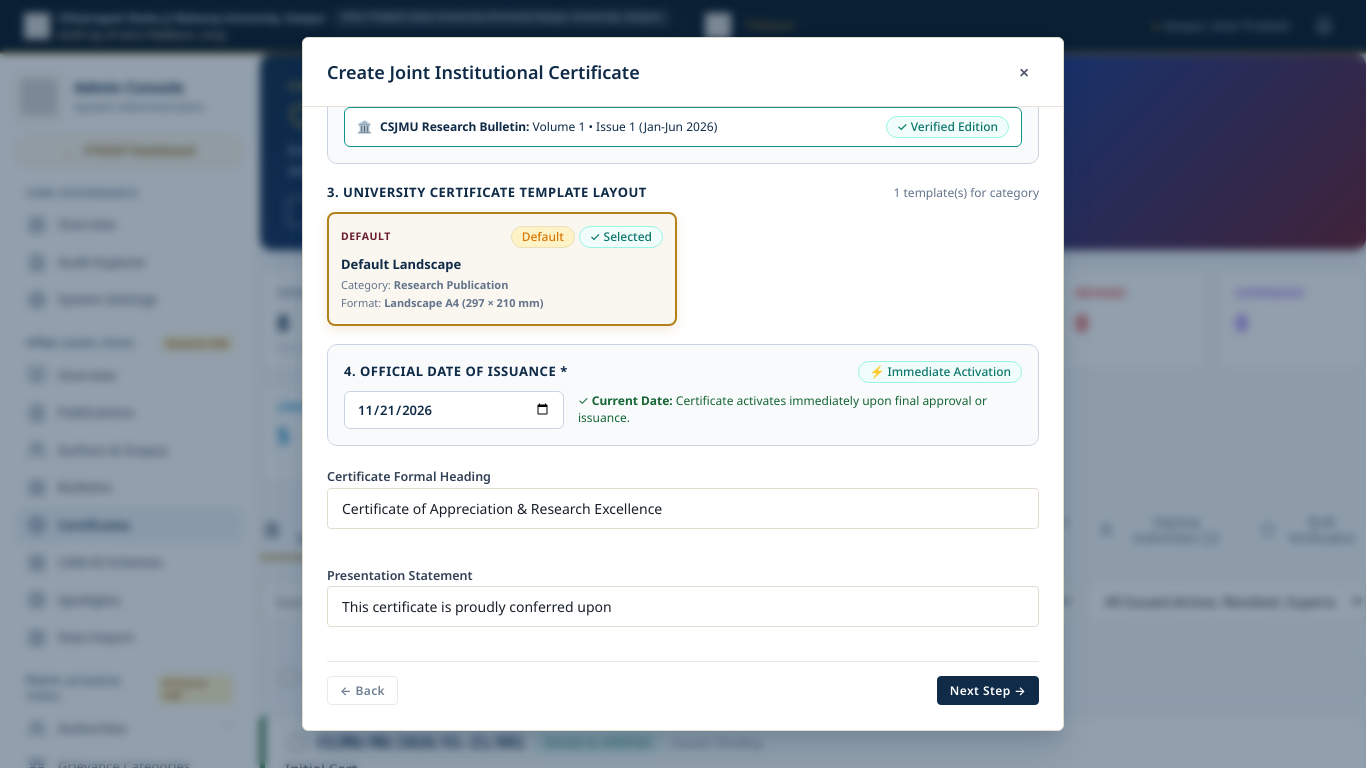
Test: CertificatesPage - Manual Certificate Number & Verification Identifier Overrides › renders optional manual override fields and live verification preview in Step 4
The width and height of the screenshot is (1366, 768).
Earlier steps of the test are not shown.
(page scrolled)
Click the button "Next Step →": [988, 691] box [937,676,1039,705]
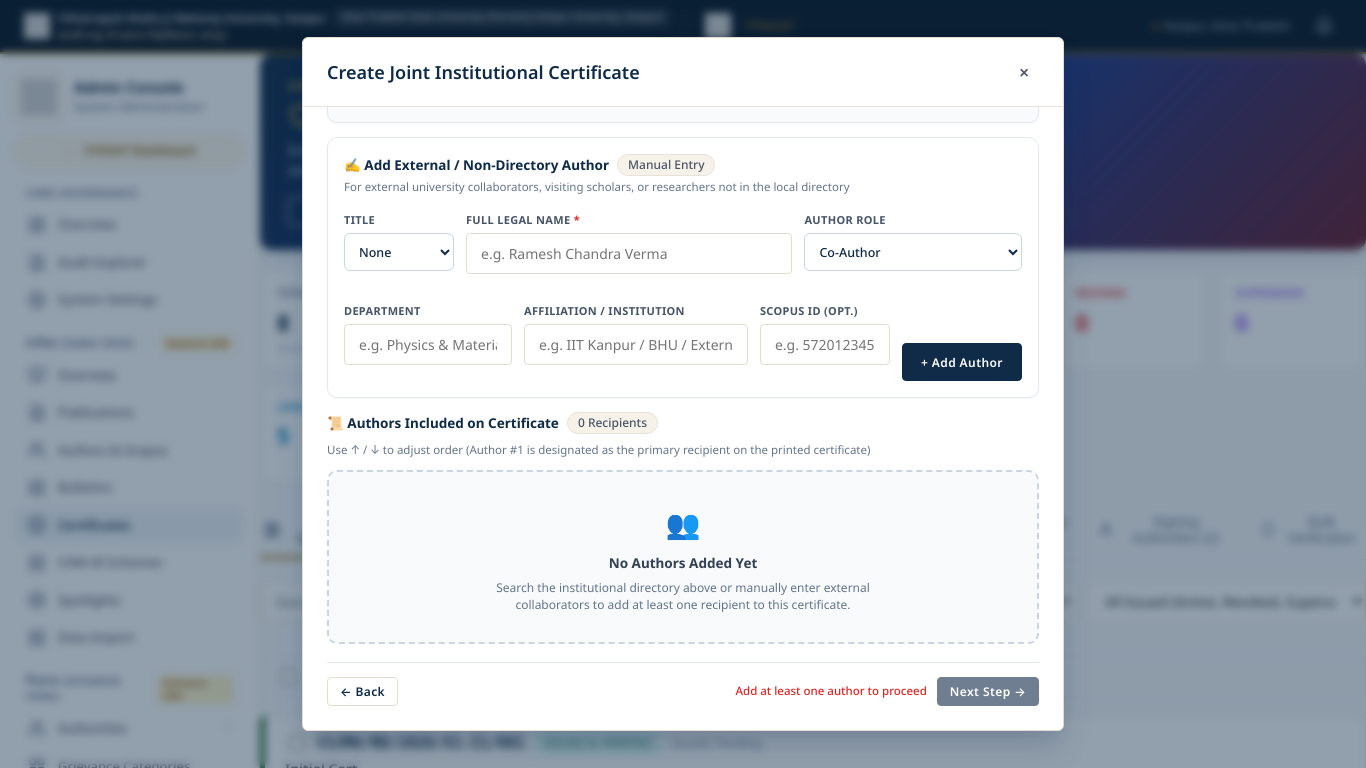
In the field with placeholder "e.g. Ramesh Chandra Verma": [629, 254] box [466,233,792,274], type "Dr. Test Author"
Click the button "+ Add Author": [962, 362] box [902,343,1022,381]
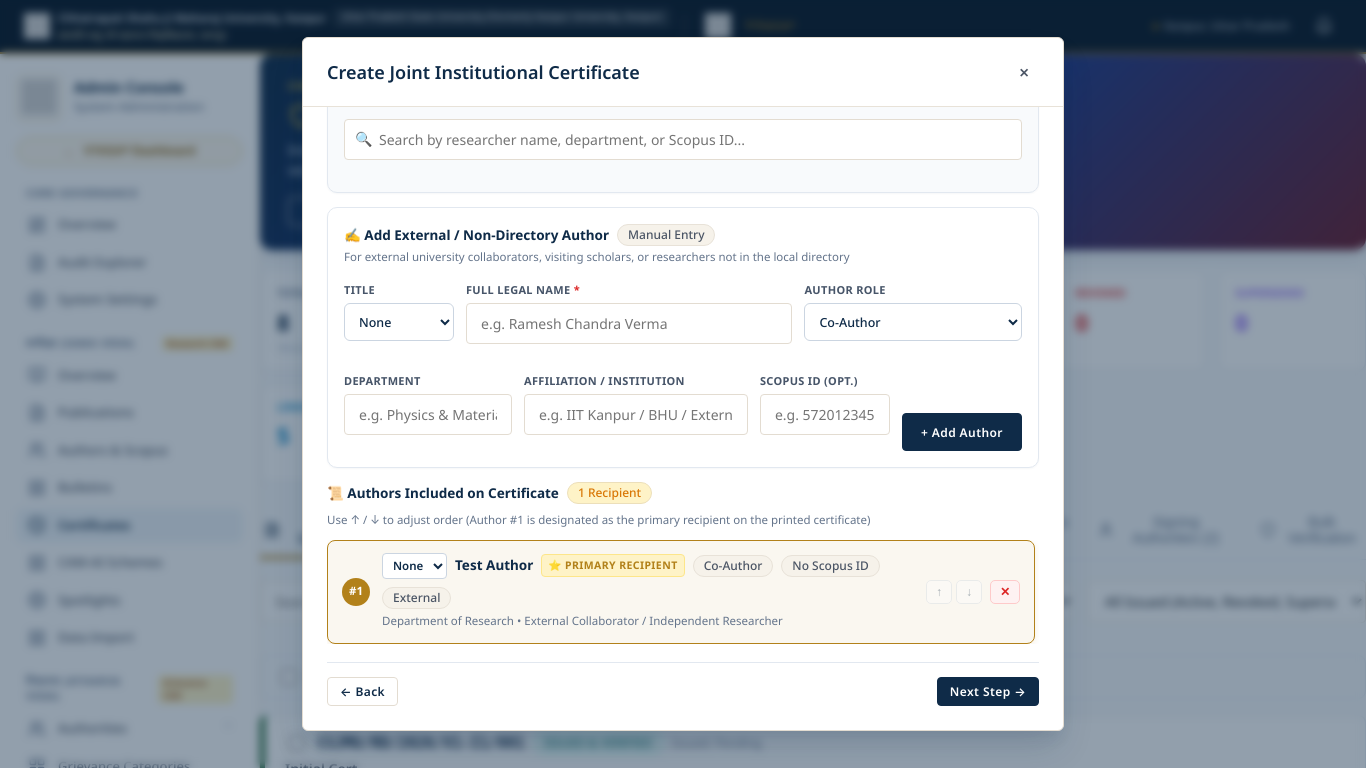
Click the button "Next Step →": [988, 691] box [937,676,1039,706]
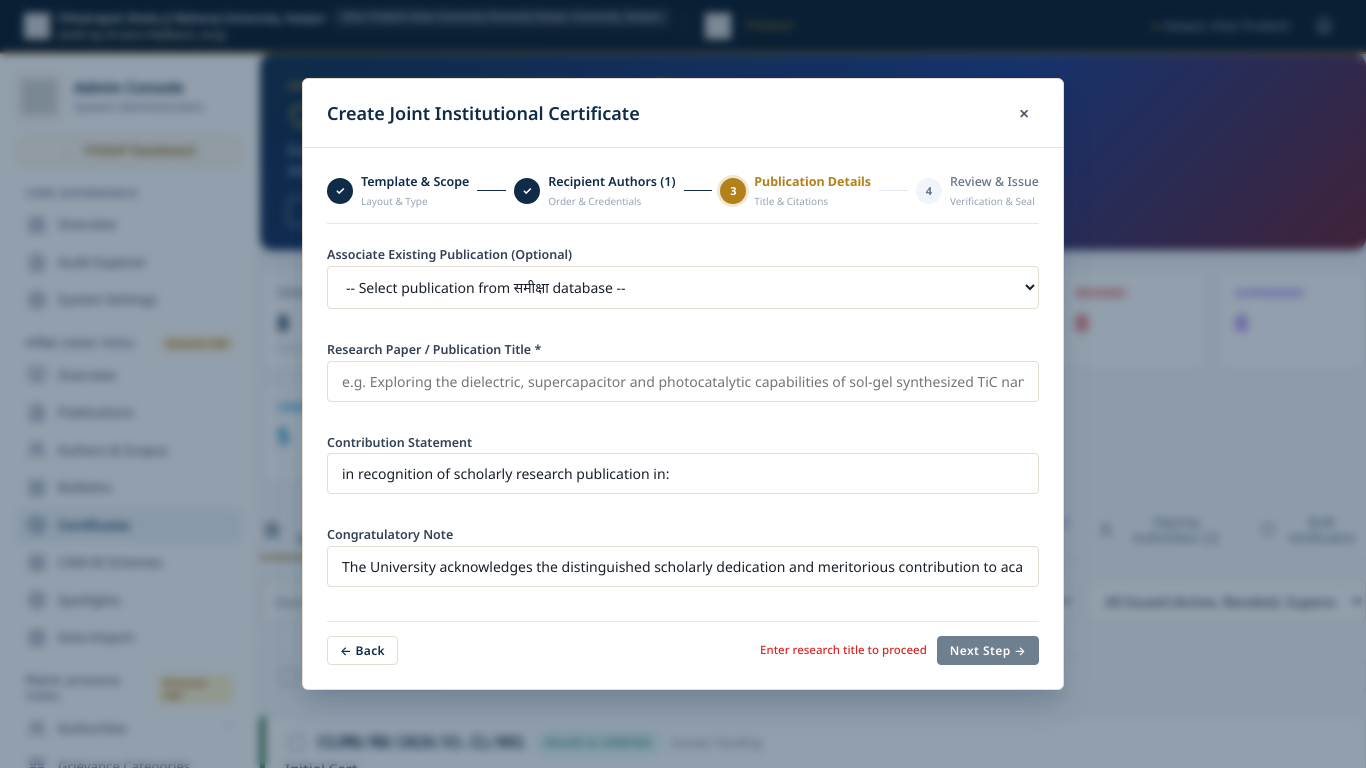
Result: the text "Research Paper / Publication Title *" is shown at [327,341,541,358]
Replace the text in the field with placeholder "Exploring the dielectric" with "Novel Quantum Computing Architecture": [683, 381] box [327,361,1039,402]
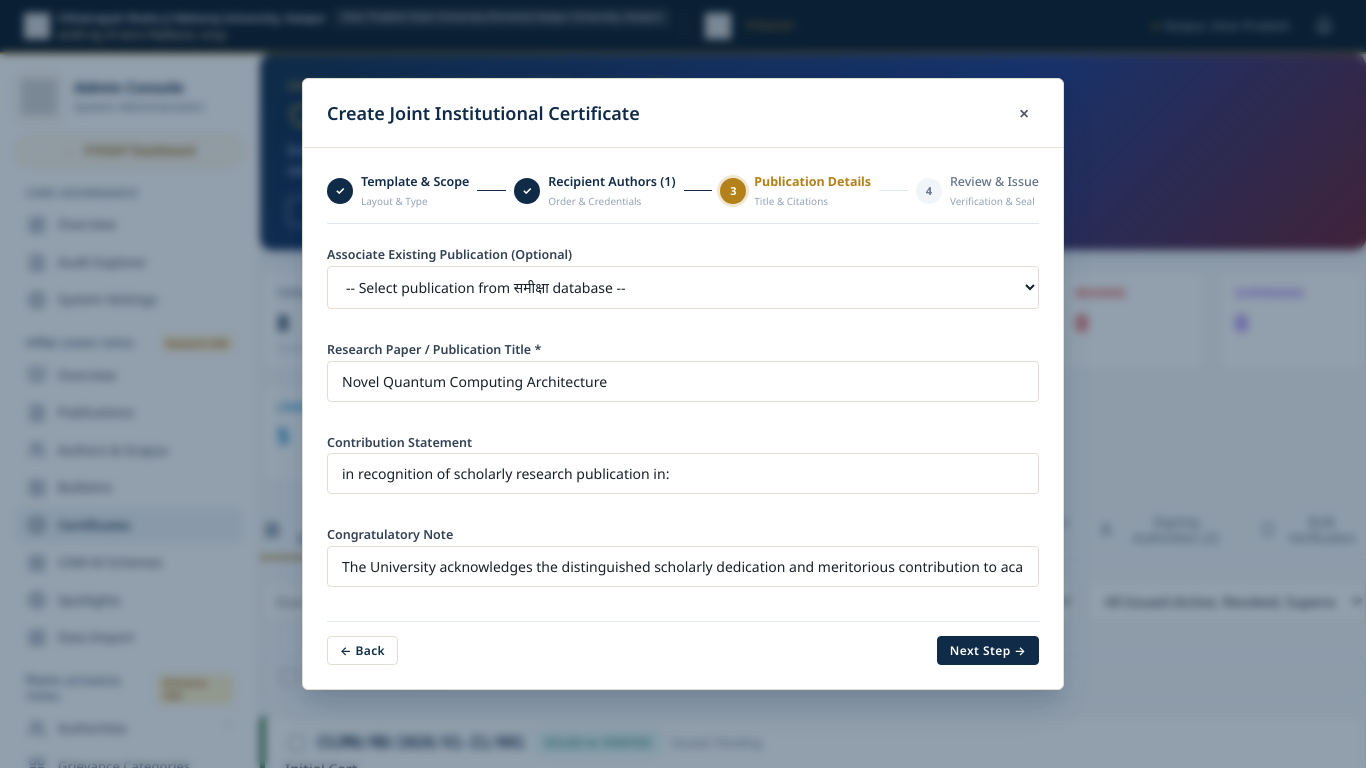
Click the button "Next Step →": [988, 650] box [937,636,1039,665]
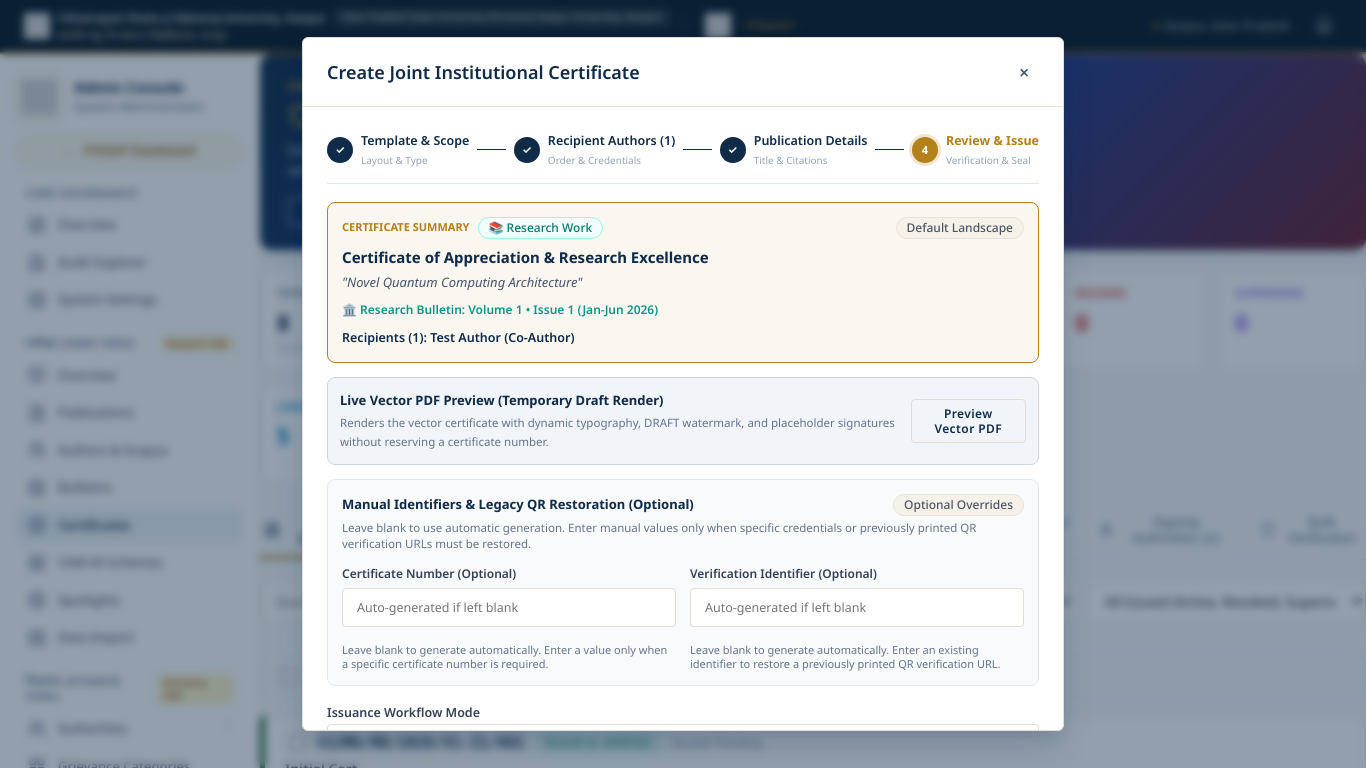
Result: the text "Review & Issue" is shown at [946,131,1039,152]
Result: the text "Manual Identifiers & Legacy QR Restoration (Optional)" is shown at [342,494,694,515]
Result: the text "Certificate Number (Optional)" is shown at [342,565,516,582]
Note: Enter manual certificate number
In the field with placeholder "Auto-generated if left blank" below "Certificate Number (Optional)": [509, 607] box [342,588,676,626], type "CSJMU/RECOVERED/2026/007"
Note: Paste full URL into identifier field
In the field with placeholder "Auto-generated if left blank": [857, 607] box [690,588,1024,626], type "https://vyasa-n.csjmu.ac.in/verify/ef6f4ff26b0944f5a76477ac7094cbd5"
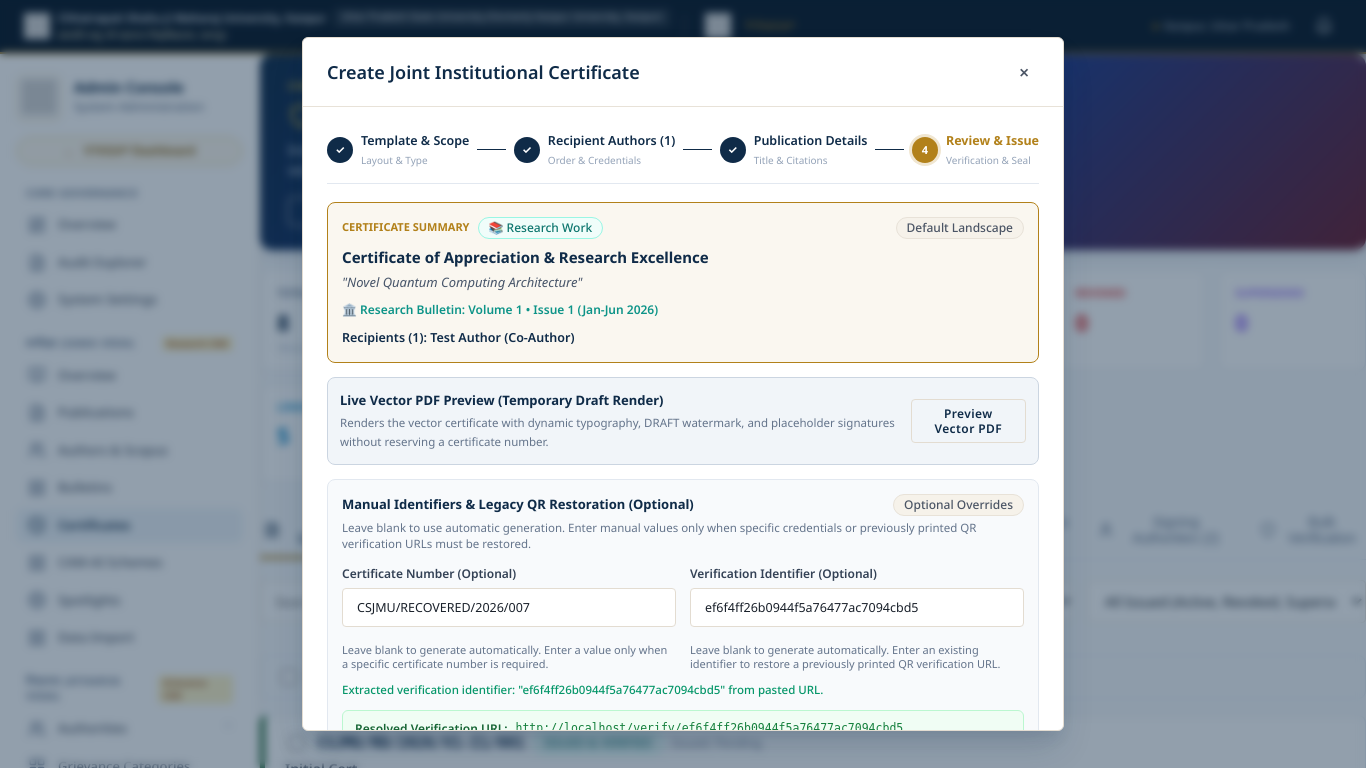
Result: the text "Extracted verification identifier: \"ef6f4ff26b0944f5a76477ac7094cbd5\"" is shown at [342,682,823,697]
